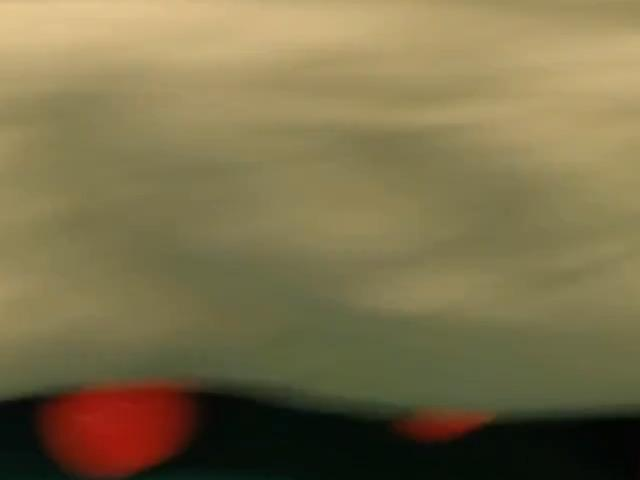Ball: (37, 386, 197, 479), (392, 411, 493, 443)
